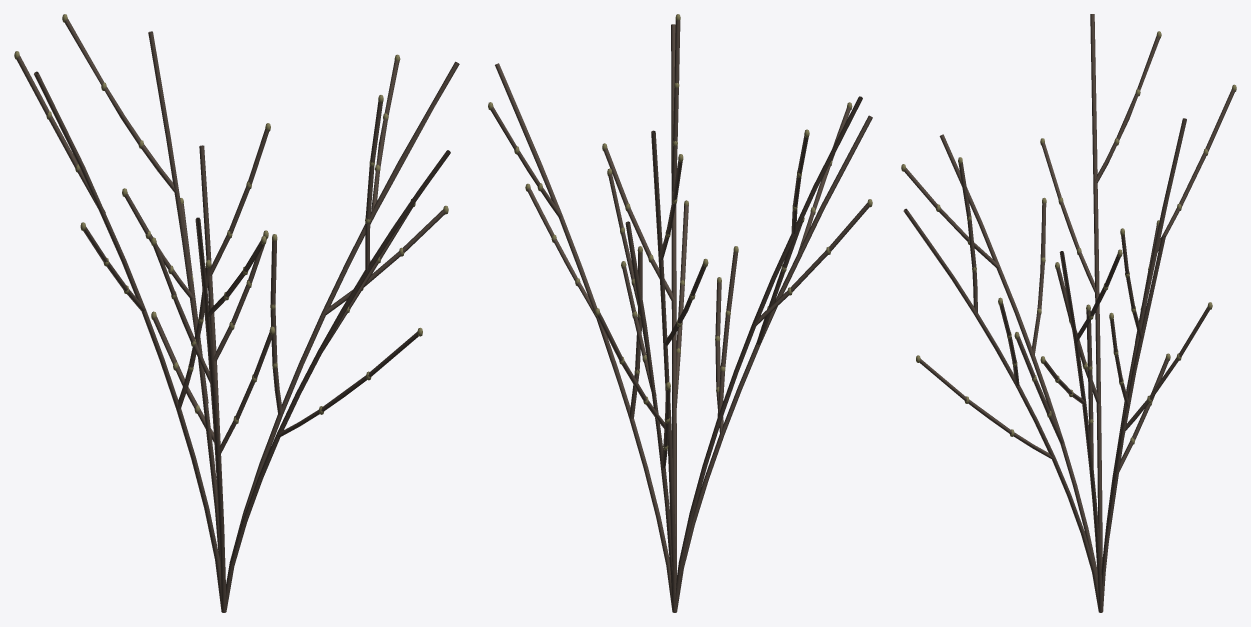
The model's file is twig-2.glb.
3 renders of one model, left to right at view 1: azimuth 30°, elevation 25°; view 2: azimuth 150°, elevation 25°; view 3: azimuth 270°, elevation 25°, orthographic. The views are drawn at different scales.
Visible parts, largest first — view 1: twig-stems, twig-leaves; view 2: twig-stems, twig-leaves; view 3: twig-stems, twig-leaves.
Part boxes in pixels (<box>): twig-stems: <box>17,18,459,612</box>; twig-leaves: <box>14,14,448,423</box>; twig-stems: <box>490,20,872,612</box>; twig-leaves: <box>488,14,872,450</box>; twig-stems: <box>903,14,1235,612</box>; twig-leaves: <box>901,31,1236,444</box>.
Bounding box in the file's own units: 0.5211 × 0.7216 × 0.4248.
